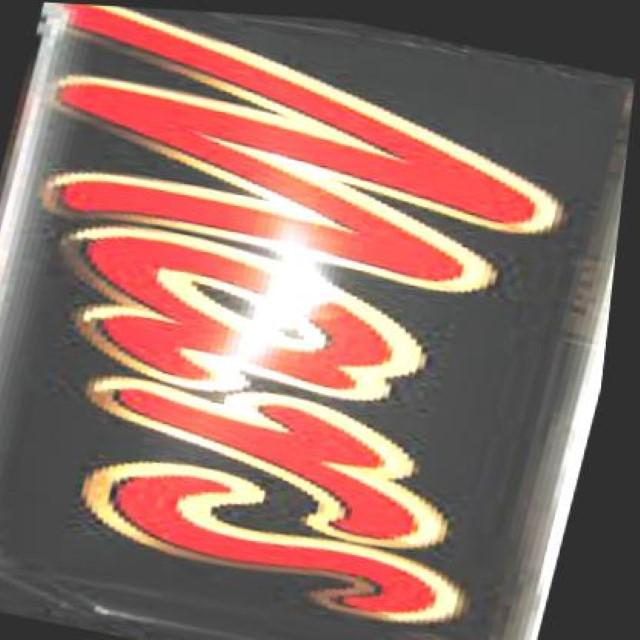mars_chocolate: (23, 0, 537, 640)
